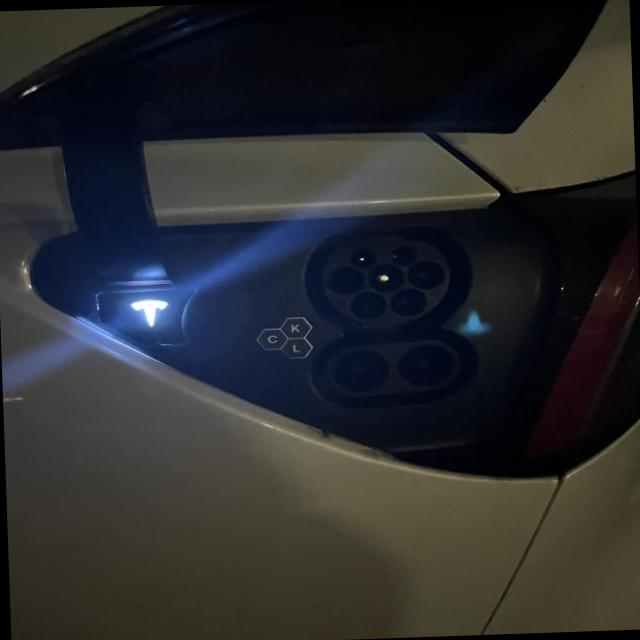inlet: (322, 240, 449, 325)
inlet-above-left: (351, 247, 377, 267)
inlet-above-right: (389, 245, 418, 264)
inlet-below-left: (350, 290, 388, 319)
inlet-below-right: (390, 288, 427, 317)
inlet-center: (367, 263, 404, 292)
inlet-center-left: (327, 267, 365, 295)
inlet-center-right: (407, 260, 444, 289)
